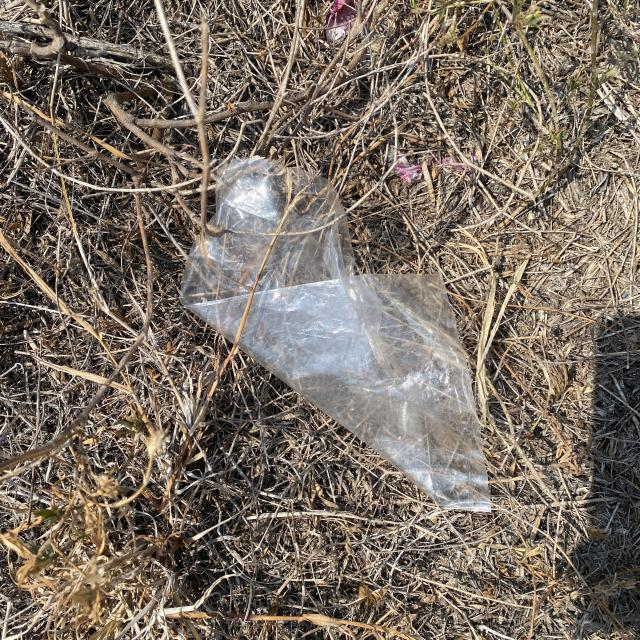Single-layer Plastic: (180, 158, 490, 511)
